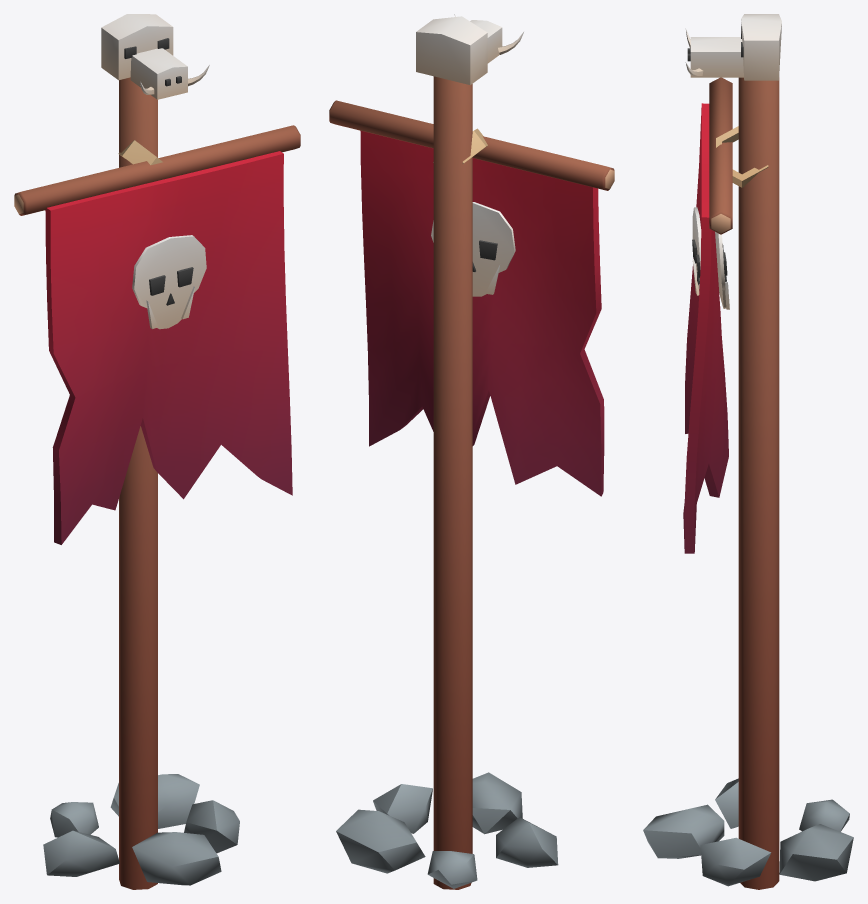
The model's file is banner_clan_B.fbx.
3 views of the same model, side by side, from view 1: azimuth 30°, elevation 25°; view 2: azimuth 150°, elevation 25°; view 3: azimuth 270°, elevation 25° (orthographic).
Visible parts, largest first — view 1: banner_clan_B; view 2: banner_clan_B; view 3: banner_clan_B.
Boxes of the visible parts, x1,y1,x2,y2 form: banner_clan_B: (14, 14, 300, 889); banner_clan_B: (329, 14, 614, 889); banner_clan_B: (643, 14, 853, 889).
Size of the model in its own units: 0.38 by 1.13 by 0.2502.
Materials: 1 (1 with a texture image).
